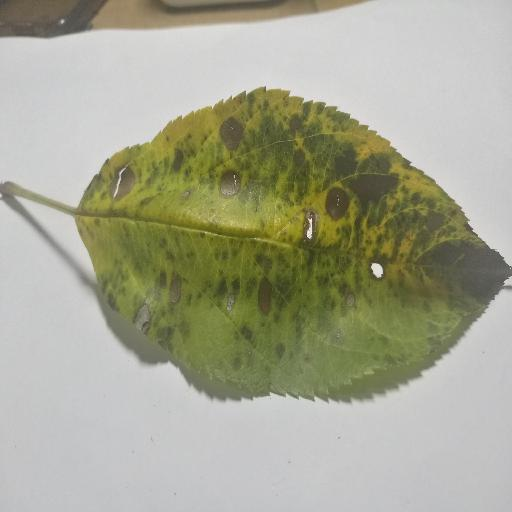Brown_Spot: (102, 168, 135, 195), (320, 184, 347, 217), (294, 207, 318, 241), (354, 249, 383, 277), (220, 123, 243, 158), (208, 172, 238, 195), (161, 268, 182, 300), (254, 280, 273, 310)
